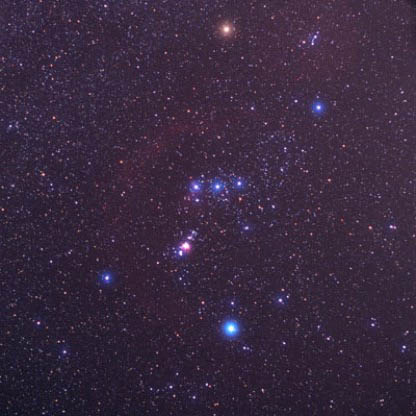Orion: (305, 92, 335, 125), (208, 15, 243, 43), (220, 314, 249, 345), (93, 267, 123, 294), (180, 171, 203, 199), (207, 171, 229, 197), (232, 171, 254, 195)
